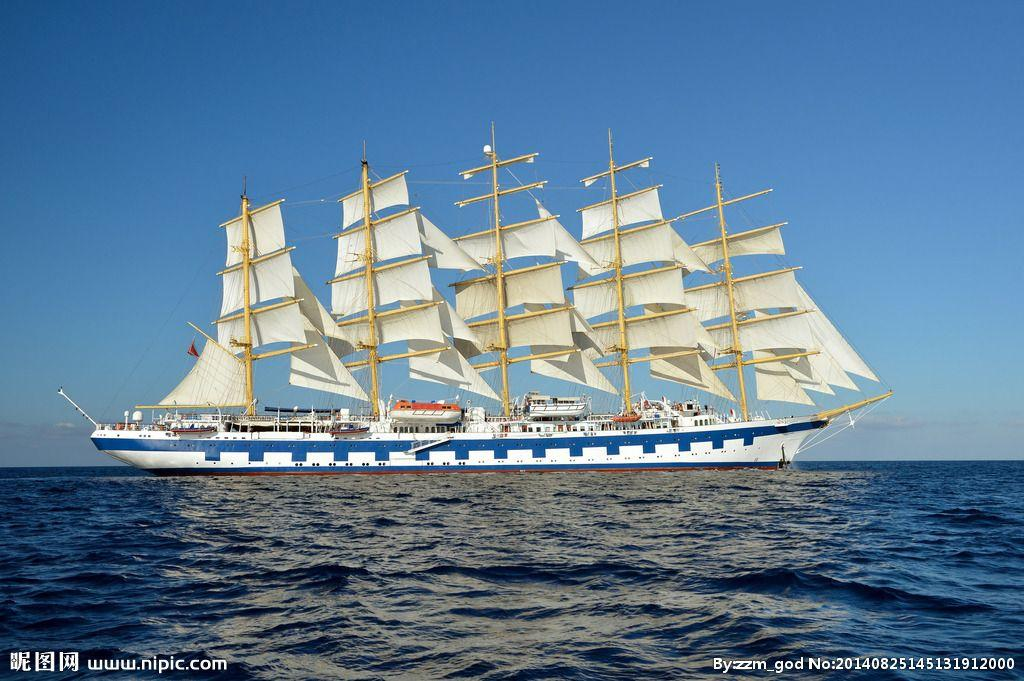fanchuan: (54, 113, 898, 481)
